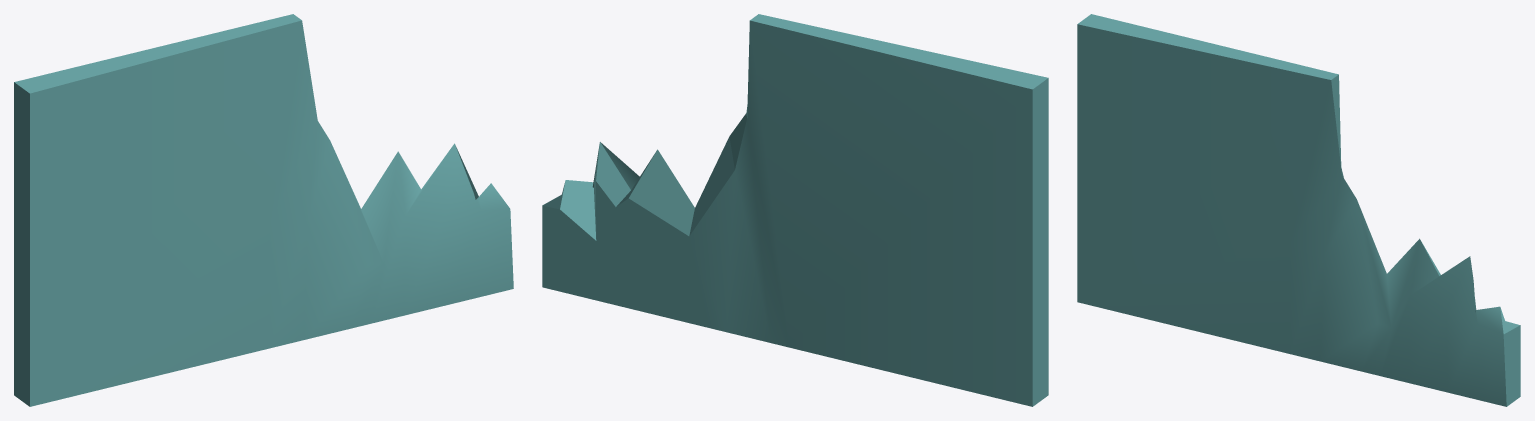
File: Pared 2.FBX
3 renders of one model, left to right at view 1: azimuth 30°, elevation 25°; view 2: azimuth 150°, elevation 25°; view 3: azimuth 330°, elevation 25°, orthographic. The views are drawn at different scales.
Parts seen in each view (by area): view 1: Box002; view 2: Box002; view 3: Box002.
Boxes of the visible parts, x1,y1,x2,y2 form: Box002: [14, 14, 513, 406]; Box002: [542, 14, 1048, 406]; Box002: [1077, 14, 1520, 406].
Bounding box in the file's own units: 229 × 142 × 12.92.
